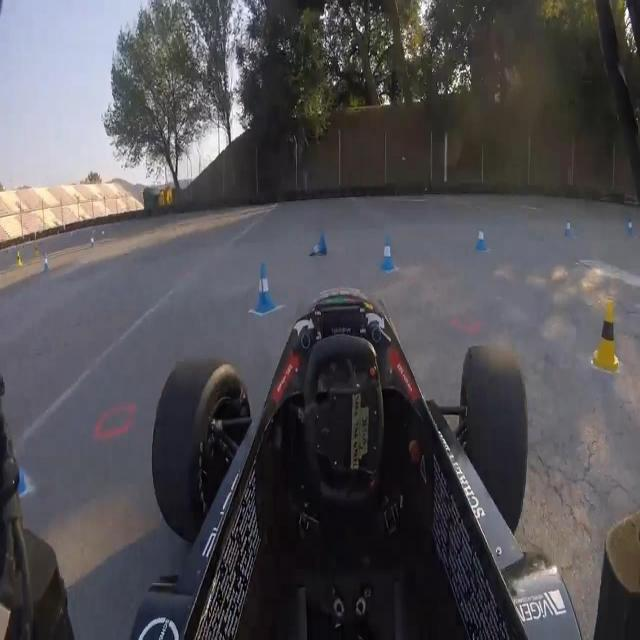blue_cone: (253, 262, 276, 318), (307, 226, 331, 261), (380, 229, 396, 275), (476, 222, 488, 252), (18, 465, 27, 498), (563, 218, 574, 239), (627, 215, 634, 239), (44, 250, 50, 272), (90, 236, 96, 251)
yellow_cone: (591, 296, 624, 378), (18, 254, 24, 269), (35, 244, 39, 256), (17, 249, 21, 259)
